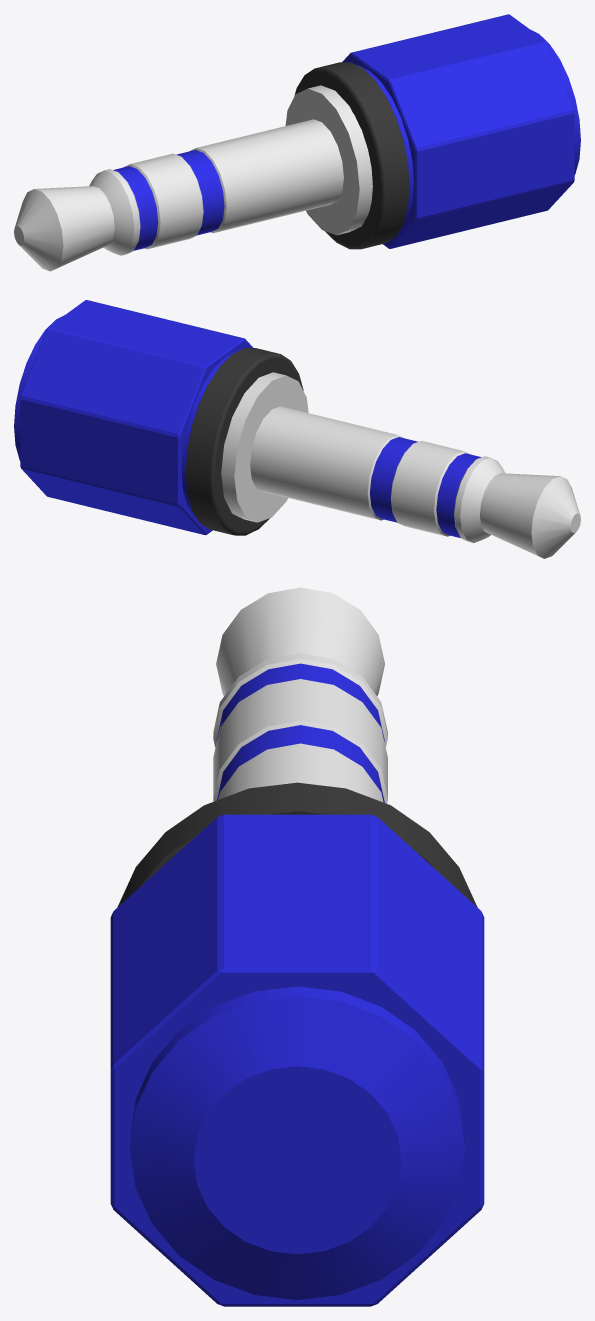
File: jakgirisi.fbx
3 views of the same model, one above another, from view 1: azimuth 30°, elevation 25°; view 2: azimuth 150°, elevation 25°; view 3: azimuth 270°, elevation 25° (orthographic). The views are drawn at different scales.
Visible parts, largest first — view 1: RCA_Base, M_J_connector; view 2: RCA_Base, M_J_connector; view 3: RCA_Base, M_J_connector.
Part boxes in pixels (box(x1,y1,x2,y2)): RCA_Base: box(294, 14, 580, 249); M_J_connector: box(14, 85, 372, 271); RCA_Base: box(14, 300, 303, 535); M_J_connector: box(221, 372, 580, 558); RCA_Base: box(110, 782, 484, 1306); M_J_connector: box(213, 587, 387, 803).
Size of the model in its own units: 0.0592 by 0.018 by 0.018.
